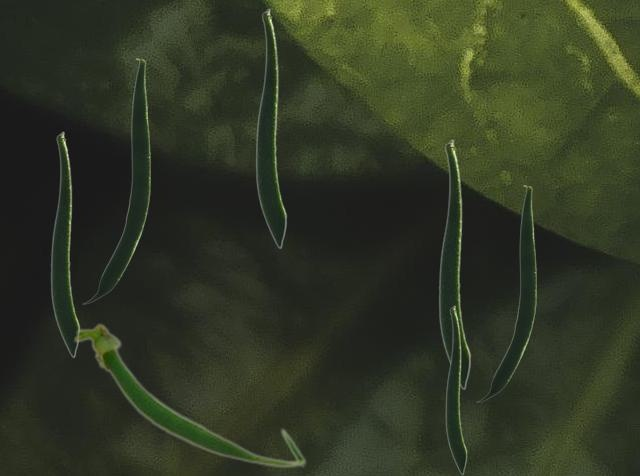french_bean: (72, 321, 306, 468), (82, 58, 149, 303), (476, 185, 535, 401), (438, 139, 470, 389), (255, 8, 286, 248), (50, 131, 79, 357), (445, 305, 466, 474)
